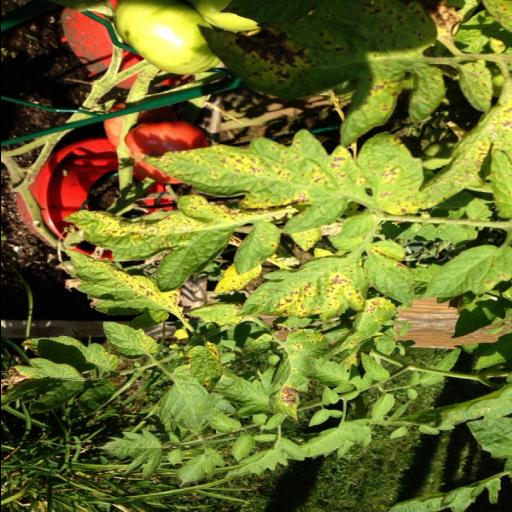disease_tomato: (197, 0, 445, 148), (138, 127, 424, 241), (62, 194, 248, 292), (62, 248, 184, 330), (240, 256, 368, 324), (268, 328, 330, 422), (319, 298, 398, 365), (420, 244, 512, 300), (361, 241, 415, 307), (232, 221, 282, 275), (100, 322, 160, 362), (184, 341, 224, 394), (454, 62, 494, 114)
